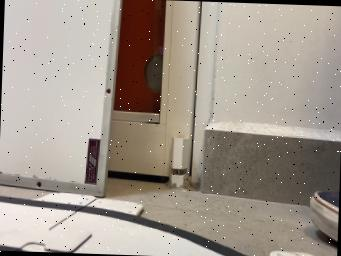street: (0, 196, 250, 256), (0, 196, 250, 256), (0, 196, 250, 256)
